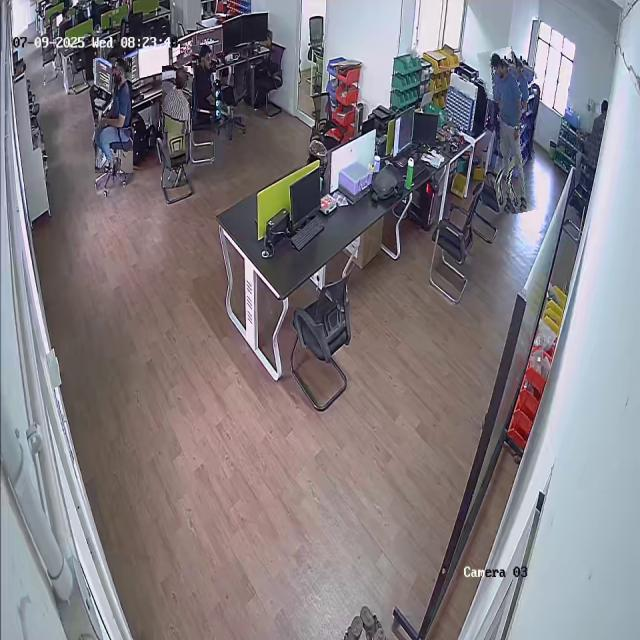person: (486, 47, 538, 214), (94, 58, 133, 173), (160, 65, 193, 134), (192, 45, 216, 119)
